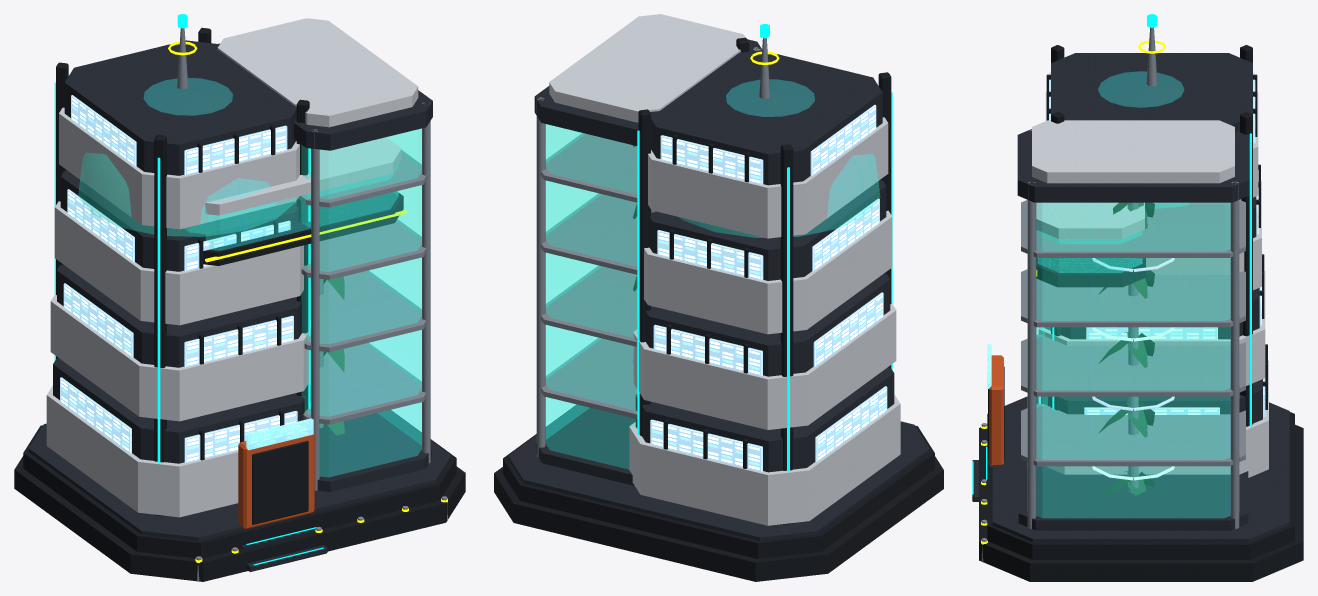
Rendered from bldg_06_r1_05.glb.
3 views of the same model, side by side, from view 1: azimuth 30°, elevation 25°; view 2: azimuth 150°, elevation 25°; view 3: azimuth 270°, elevation 25° (orthographic). The views are drawn at different scales.
Parts seen in each view (by area): view 1: Bldg06_C05_aero_white, Bldg06_C05_carbon_slate, Bldg06_C05_glass_emerald, Bldg06_C05_gunmetal, Bldg06_C05_steel_machined, Bldg06_C05_window_lit, Bldg06_C05_led_cyan, Bldg06_C05_accent_orange, Bldg06_C05_marquee, Bldg06_C05_led_amber, Bldg06_C05_foliage; view 2: Bldg06_C05_aero_white, Bldg06_C05_carbon_slate, Bldg06_C05_glass_emerald, Bldg06_C05_gunmetal, Bldg06_C05_steel_machined, Bldg06_C05_window_lit, Bldg06_C05_led_cyan; view 3: Bldg06_C05_glass_emerald, Bldg06_C05_steel_machined, Bldg06_C05_carbon_slate, Bldg06_C05_aero_white, Bldg06_C05_gunmetal, Bldg06_C05_window_lit, Bldg06_C05_foliage, Bldg06_C05_accent_orange, Bldg06_C05_led_cyan, Bldg06_C05_led_ice, Bldg06_C05_led_uv.
Part boxes in pixels (x1,y1,x2,y2): Bldg06_C05_aero_white: (46,18,418,517); Bldg06_C05_carbon_slate: (28,40,451,571); Bldg06_C05_glass_emerald: (78,78,421,477); Bldg06_C05_gunmetal: (14,27,465,581); Bldg06_C05_steel_machined: (177,28,447,581); Bldg06_C05_window_lit: (60,95,297,462); Bldg06_C05_led_cyan: (54,14,323,565); Bldg06_C05_accent_orange: (238,431,314,529); Bldg06_C05_marquee: (246,418,313,450); Bldg06_C05_led_amber: (168,41,447,562); Bldg06_C05_foliage: (323,276,344,435); Bldg06_C05_aero_white: (549,14,900,525); Bldg06_C05_carbon_slate: (508,39,929,540); Bldg06_C05_glass_emerald: (545,79,879,469); Bldg06_C05_gunmetal: (494,37,943,581); Bldg06_C05_steel_machined: (536,38,770,457); Bldg06_C05_window_lit: (650,104,887,471); Bldg06_C05_led_cyan: (637,24,892,471); Bldg06_C05_glass_emerald: (1027,71,1239,517); Bldg06_C05_steel_machined: (981,27,1245,562); Bldg06_C05_carbon_slate: (972,53,1289,542); Bldg06_C05_aero_white: (1032,91,1268,477); Bldg06_C05_gunmetal: (979,45,1303,581); Bldg06_C05_window_lit: (1038,72,1265,416); Bldg06_C05_foliage: (1098,202,1154,496); Bldg06_C05_accent_orange: (989,355,1003,466); Bldg06_C05_led_cyan: (972,14,1251,494); Bldg06_C05_led_ice: (1092,327,1174,480); Bldg06_C05_led_uv: (1092,258,1174,410).
Size of the model in its own units: 12 by 16.52 by 10.71.
Materials: 14 (14 with a texture image).
